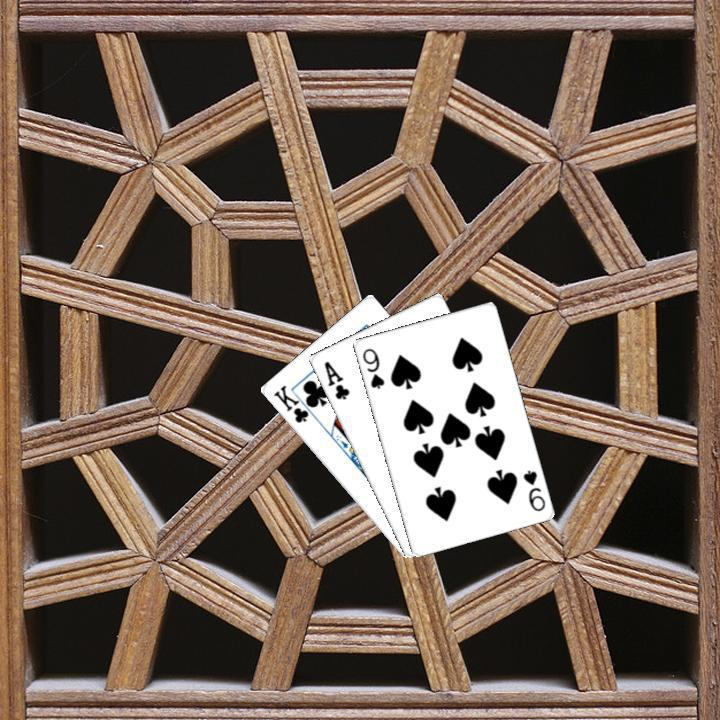9: (518, 465, 547, 513), (358, 343, 386, 391)
A: (319, 356, 351, 401)
K: (269, 380, 318, 425)
